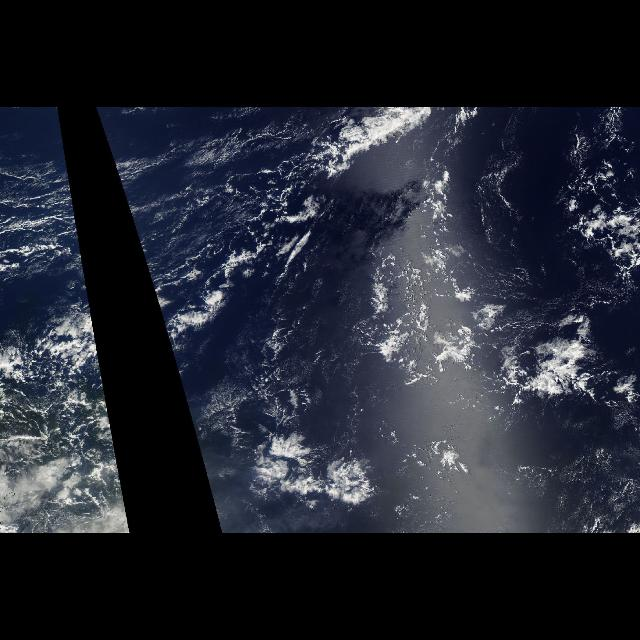Gravel: (368, 195, 524, 401), (197, 148, 316, 264)
Sugar: (98, 120, 290, 290), (496, 406, 640, 534), (0, 121, 90, 289)
